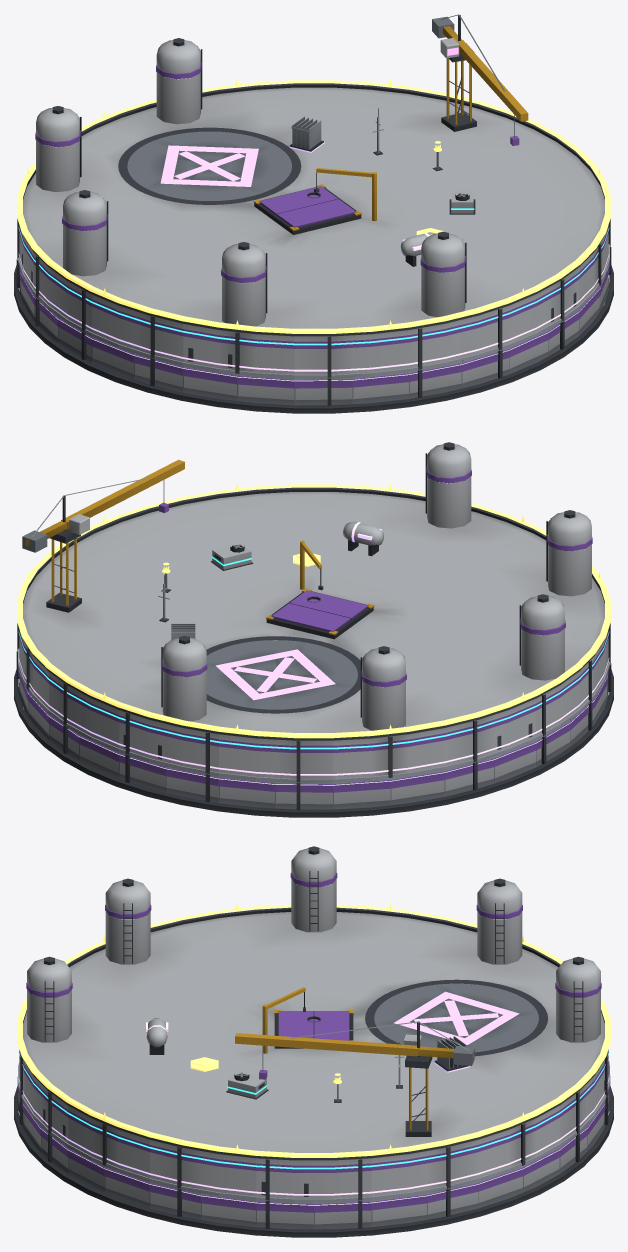
Rendered from storehouse_xl_far.glb.
The picture shows the model from 3 angles, top to bottom: view 1: azimuth 30°, elevation 25°; view 2: azimuth 150°, elevation 25°; view 3: azimuth 270°, elevation 25°; orthographic projection.
Visible parts, largest first — view 1: Roof, Base, L5, L2, L4, L3; view 2: Roof, Base, L5, L2, L4, L3; view 3: Roof, Base, L5, L2, L4, L3.
Part boxes in pixels (x1,y1,x2,y2): Roof: [17, 14, 610, 377]; Base: [14, 247, 613, 413]; L5: [17, 79, 610, 333]; L2: [18, 108, 609, 378]; L4: [18, 116, 609, 371]; L3: [18, 188, 609, 345]; Roof: [17, 442, 610, 781]; Base: [14, 651, 613, 817]; L5: [17, 483, 610, 738]; L2: [18, 575, 609, 782]; L4: [18, 521, 609, 775]; L3: [18, 543, 609, 749]; Roof: [19, 846, 609, 1200]; Base: [14, 1076, 613, 1237]; L5: [17, 903, 610, 1157]; L2: [18, 1042, 609, 1202]; L4: [18, 1018, 609, 1195]; L3: [18, 1016, 609, 1169].
Size of the model in its own units: 25.25 by 8.63 by 25.25.
